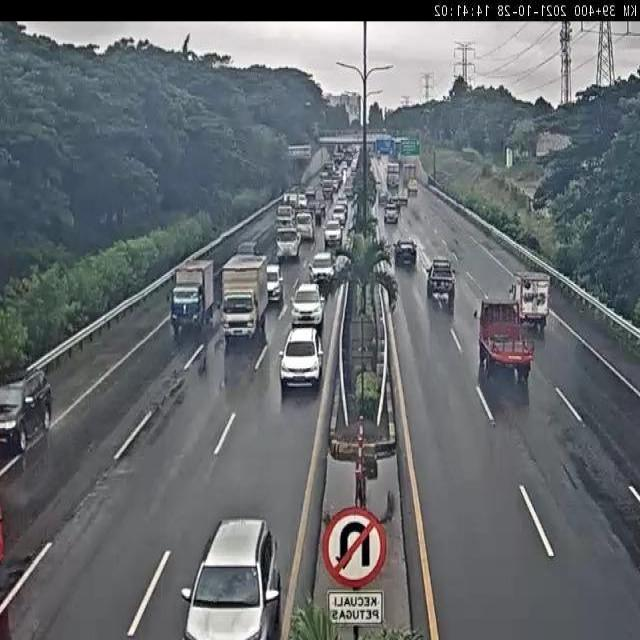Car: (185, 505, 286, 640), (0, 356, 60, 464), (272, 326, 326, 392), (289, 282, 325, 328), (308, 252, 335, 284), (266, 264, 284, 304), (394, 240, 417, 268), (323, 218, 343, 248), (238, 238, 264, 256), (384, 201, 400, 223)
Truck: (478, 301, 534, 382), (218, 257, 270, 341), (171, 258, 217, 340), (512, 271, 552, 333), (426, 257, 456, 311), (275, 228, 301, 260), (383, 160, 404, 190), (273, 204, 296, 228), (294, 213, 315, 239), (402, 162, 418, 188)
